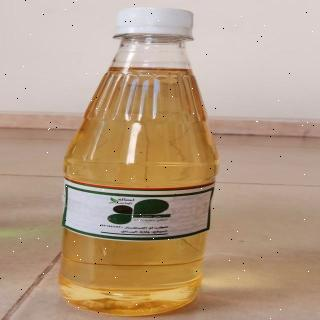Plastic-bottle: (55, 3, 223, 320)
